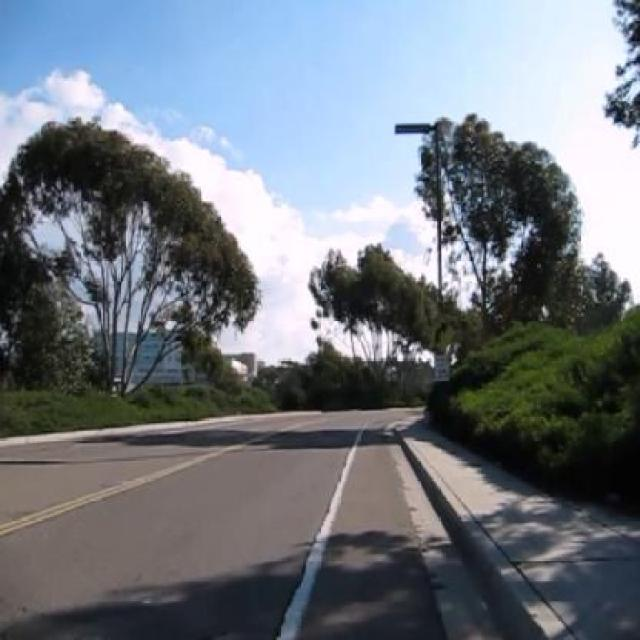speedLimit35: (434, 354, 451, 381)
